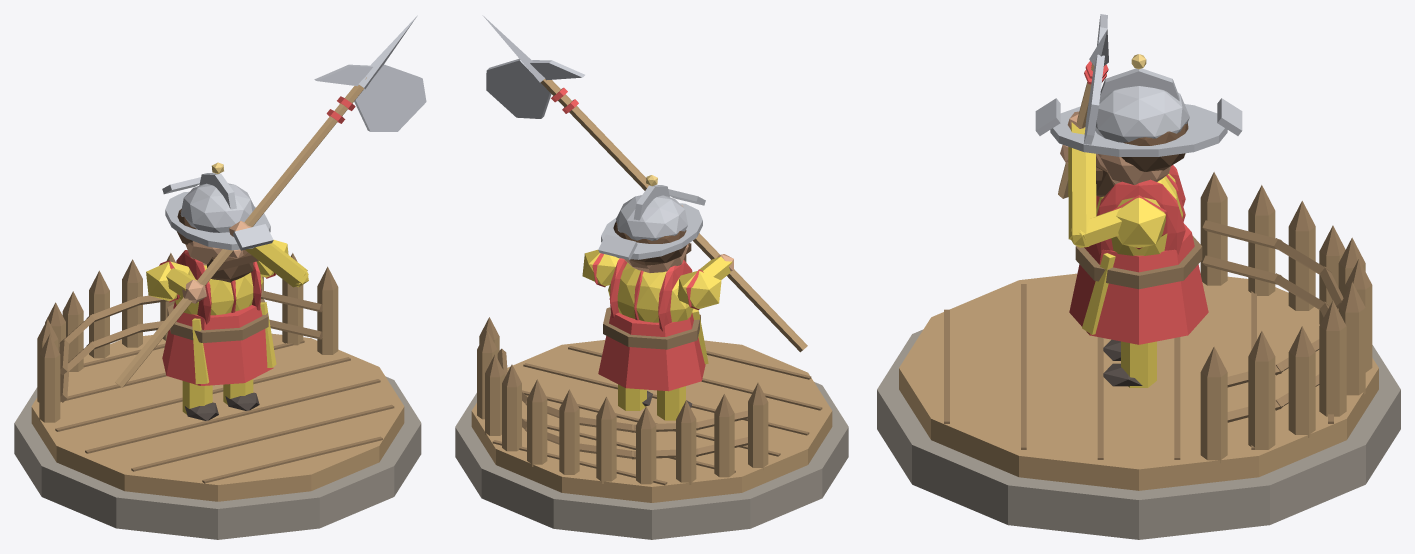
The model's file is halberdier.glb.
3 renders of one model, left to right at view 1: azimuth 30°, elevation 25°; view 2: azimuth 150°, elevation 25°; view 3: azimuth 270°, elevation 25°, orthographic. The views are drawn at different scales.
Visible parts, largest first — view 1: Cylinder.457, Cylinder.456, Cone.100, Slab.024, Cylinder.489, Icosphere.333, Icosphere.319, Cylinder.485, Cylinder.468, Cube.264, Cylinder.483, Cylinder.458 (+20 smaller); view 2: Cylinder.457, Cylinder.456, Cone.100, Cylinder.489, Slab.024, Icosphere.319, Icosphere.333, Cylinder.483, Cylinder.485, Cylinder.462, Cylinder.463, Cylinder.468 (+23 smaller); view 3: Cylinder.457, Cylinder.456, Cone.100, Icosphere.333, Cylinder.485, Cylinder.459, Cylinder.461, Cylinder.488, Cylinder.458, Cylinder.483, Icosphere.328, Cylinder.460 (+24 smaller).
Part boxes in pixels (x1,y1,x2,y2): Cylinder.457: (31, 333, 404, 501); Cylinder.456: (14, 376, 421, 539); Cone.100: (162, 301, 273, 385); Slab.024: (354, 64, 426, 131); Cylinder.489: (115, 77, 366, 387); Icosphere.333: (180, 183, 255, 232); Icosphere.319: (175, 265, 263, 315); Cylinder.485: (165, 191, 270, 250); Cylinder.468: (39, 354, 60, 422); Cube.264: (85, 379, 380, 453); Cylinder.483: (167, 299, 268, 342); Cylinder.458: (317, 287, 338, 354); Cylinder.457: (471, 340, 832, 502); Cylinder.456: (455, 382, 848, 539); Cone.100: (598, 312, 705, 391); Cylinder.489: (533, 75, 807, 352); Slab.024: (486, 58, 551, 118); Icosphere.319: (608, 262, 693, 322); Icosphere.333: (616, 195, 687, 240); Cylinder.483: (603, 307, 700, 349); Cylinder.485: (601, 203, 702, 259); Cylinder.462: (527, 399, 547, 466); Cylinder.463: (559, 409, 579, 474); Cylinder.468: (748, 402, 768, 469); Cylinder.457: (899, 273, 1378, 490); Cylinder.456: (877, 329, 1400, 539); Cone.100: (1069, 223, 1208, 344); Icosphere.333: (1095, 86, 1189, 142); Cylinder.485: (1050, 104, 1227, 156); Cylinder.459: (1248, 357, 1275, 449); Cylinder.461: (1319, 326, 1346, 416); Cylinder.488: (1068, 122, 1096, 239); Cylinder.458: (1200, 372, 1227, 463); Cylinder.483: (1075, 236, 1202, 289); Icosphere.328: (1096, 179, 1185, 254); Cylinder.460: (1288, 352, 1315, 437).
Bounding box in the file's own units: 3.21 × 3.39 × 3.1.
